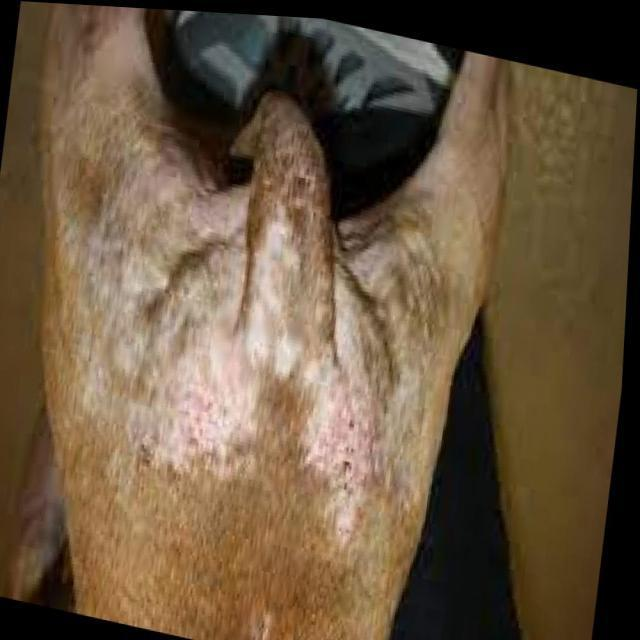allergic dermatitis: (160, 300, 372, 532)
